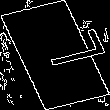L_W: (15, 32, 95, 78)
